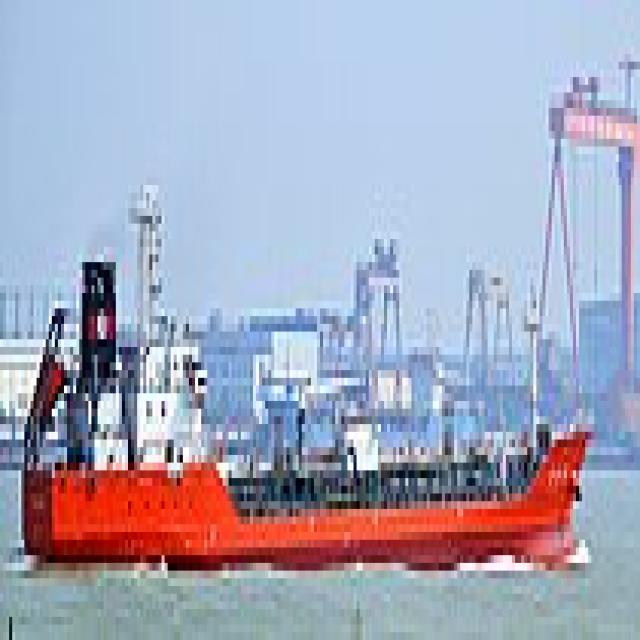Tanker: (19, 247, 592, 563)
